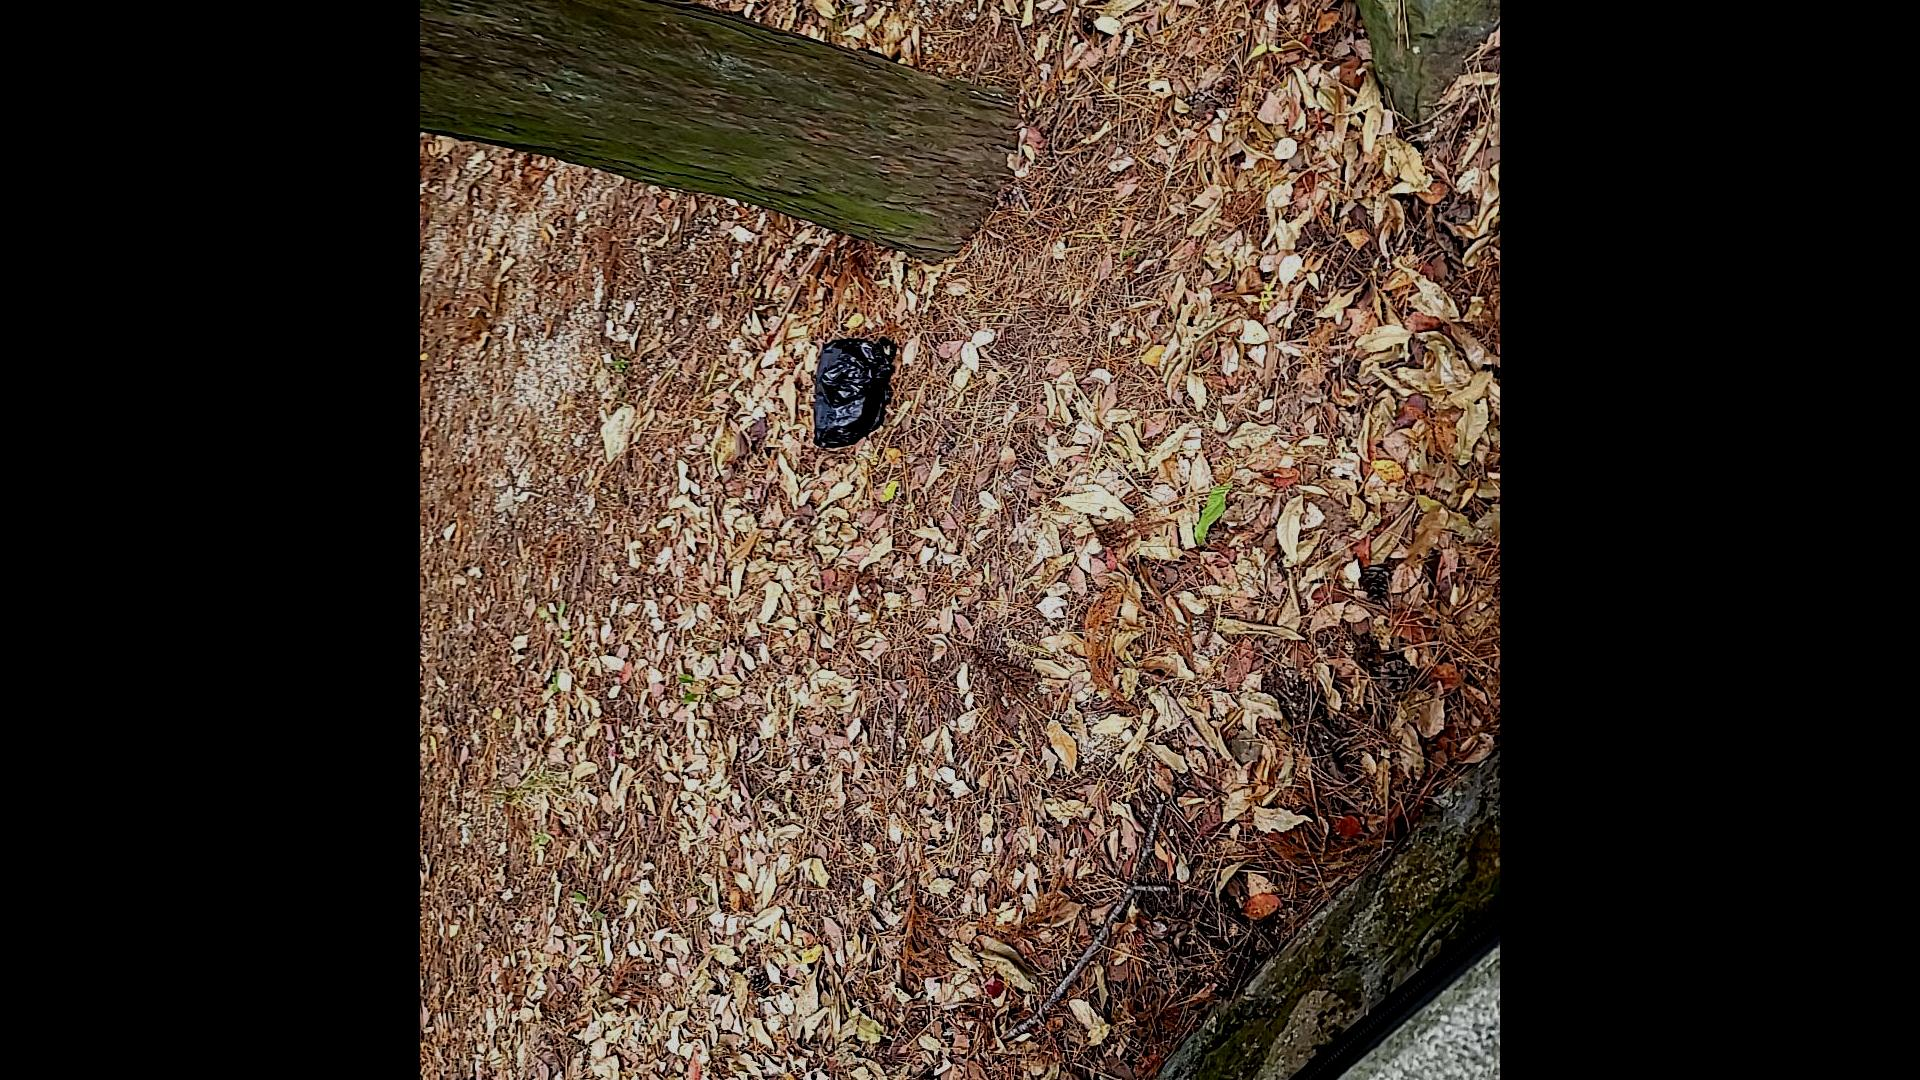black_bag: (806, 334, 899, 451)
